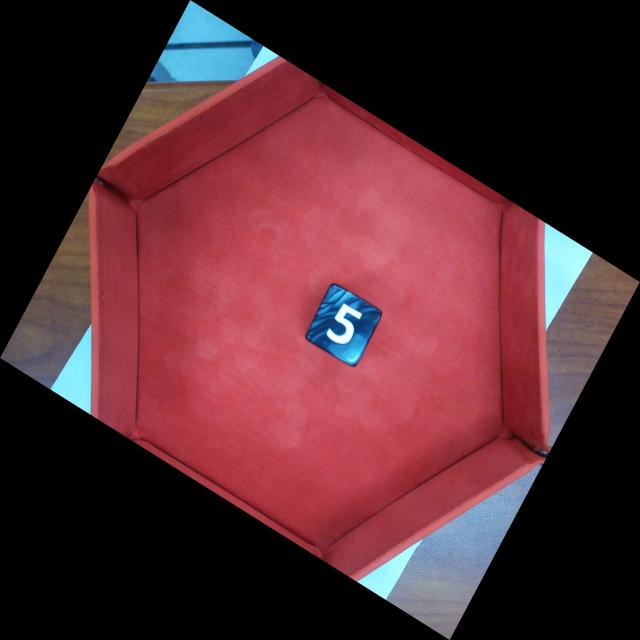dice: (302, 280, 385, 372)
